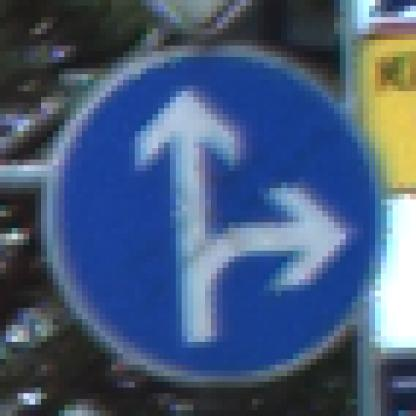Straight or Right: (42, 41, 382, 383)
